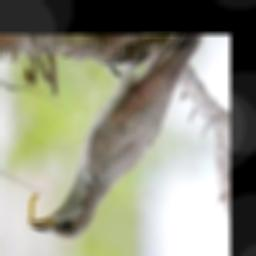Cuckoo: (30, 34, 203, 239)
